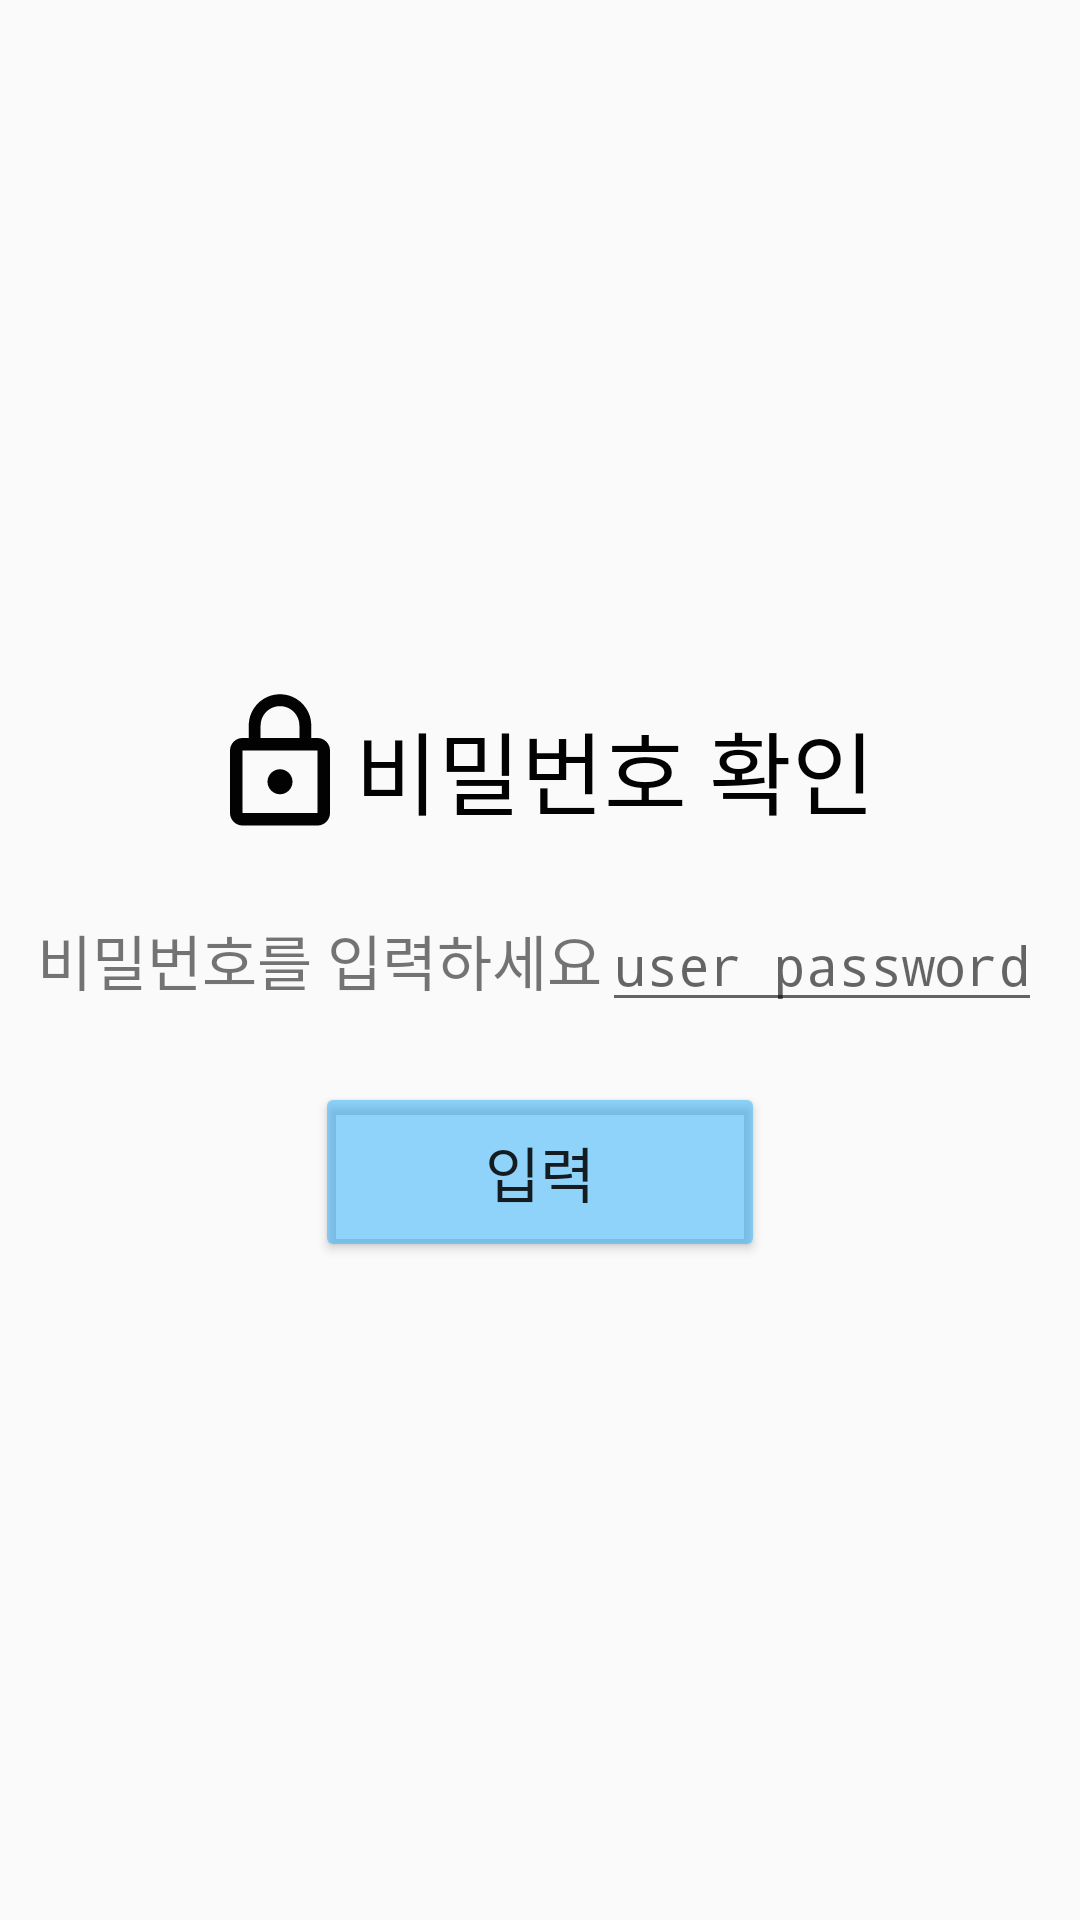

Where icons sit on this 1080*1920 app screen, as (x1, y1, x2, y2):
lock: (230, 694, 330, 826)
